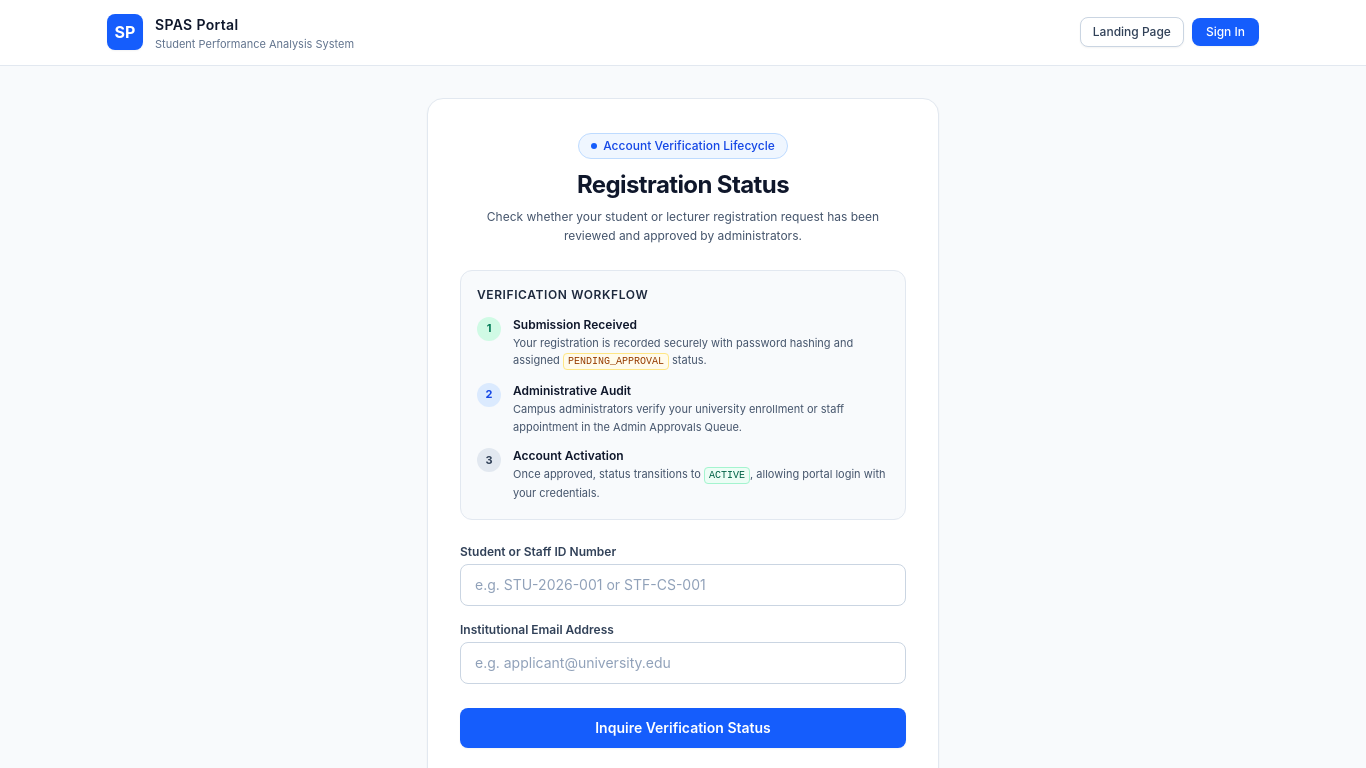
it: RequestStatusPage › queries and displays pending status badge
This screenshot has width=1366, height=768.
In the field labelled "Student or Staff ID Number": [683, 584] box [460,564,906,606], type "STU001"
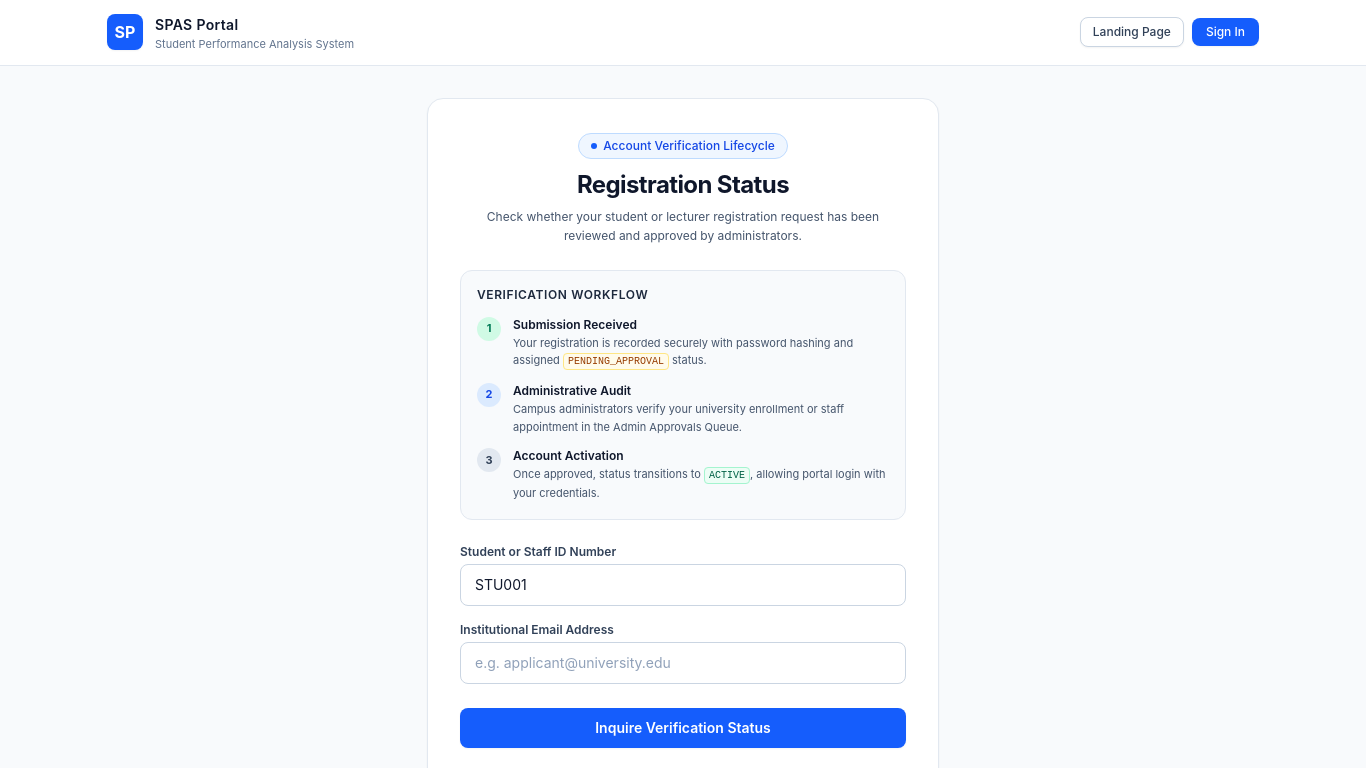
In the field labelled "Institutional Email Address": [683, 662] box [460,642,906,684], type "student@spas.edu"
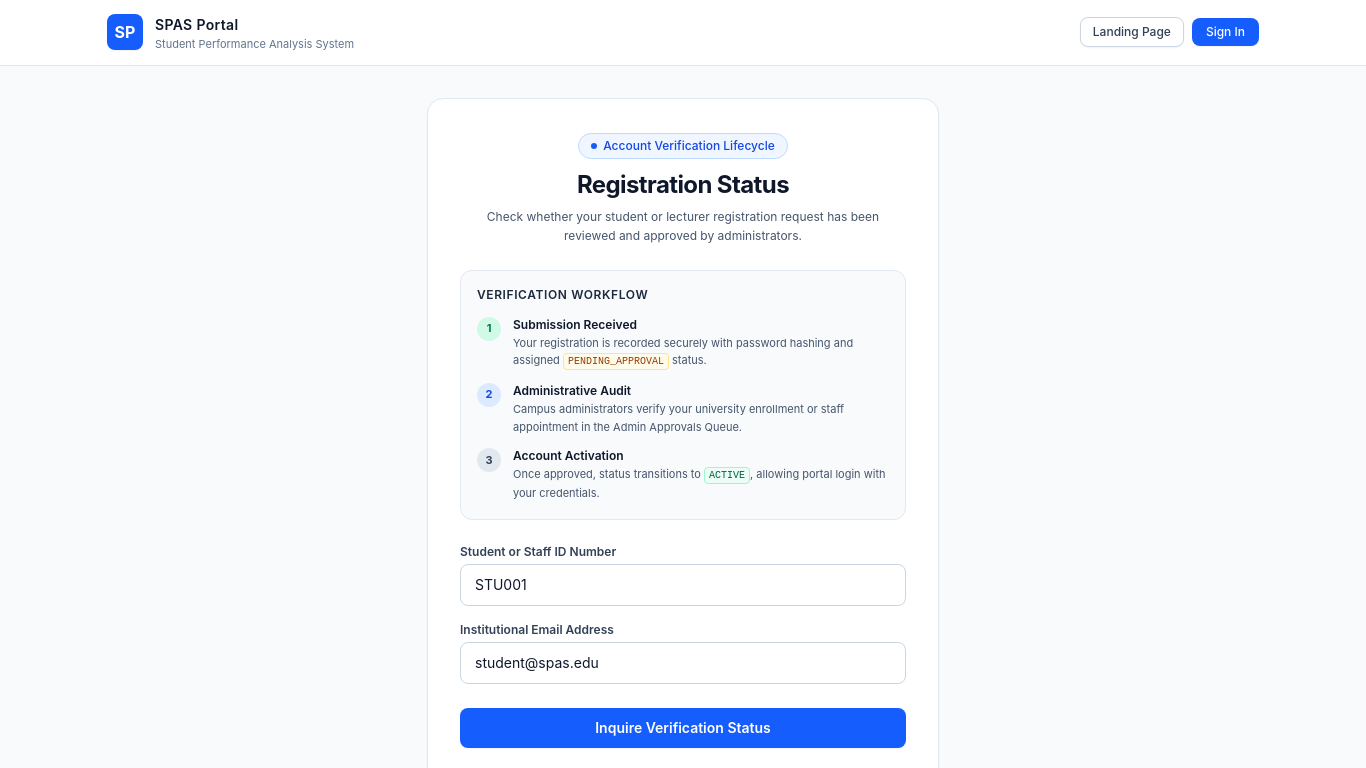
Click the button "Inquire Verification Status": [683, 728] box [460,708,906,748]
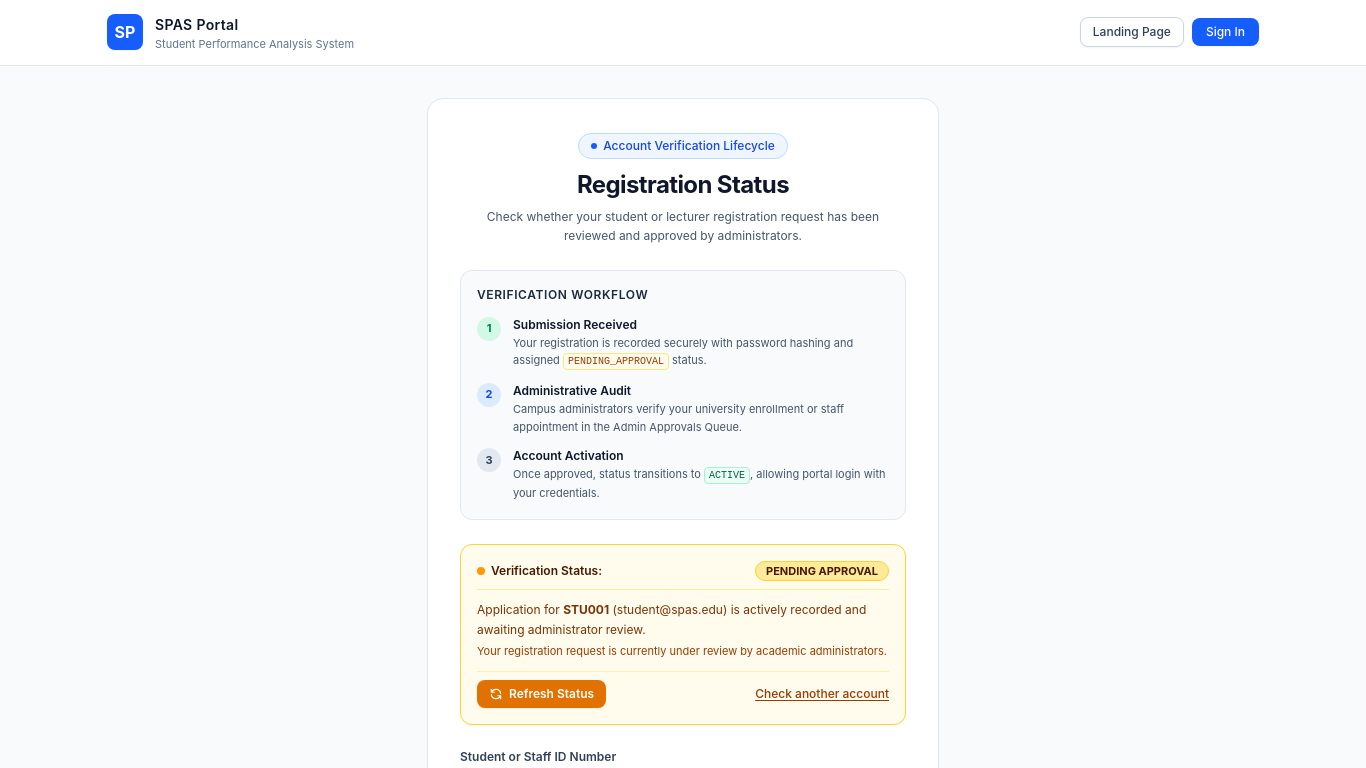
Result: the text "PENDING APPROVAL" is shown at [755,560,889,581]
